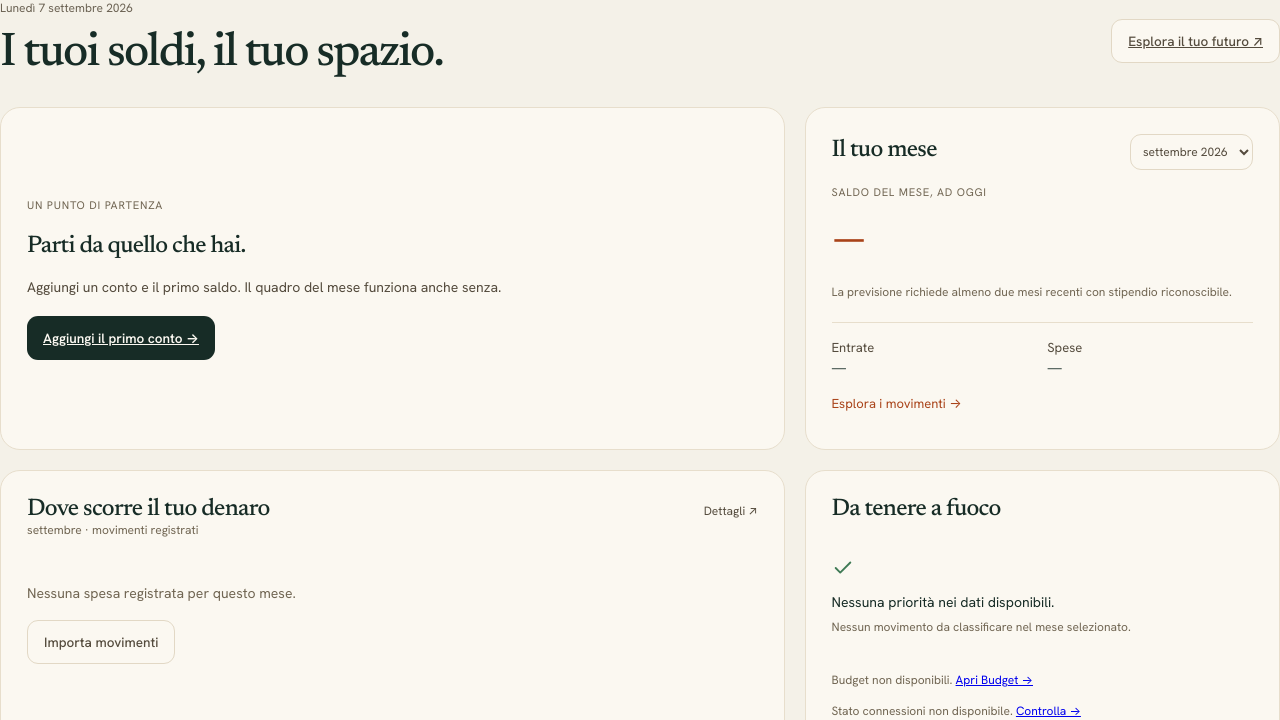
Test: modular home › keeps monthly data usable without balances or optional services and navigates to the exact cleanup period
The width and height of the screenshot is (1280, 720).
Expected: the heading "Parti da quello che hai." is shown, 27,234 -> 245,258
Expected: the text "Nessuna spesa registrata per questo mese." is shown, 27,584 -> 296,602
Select "2026-08" in the dropdown named "Mese" at point(1192, 152), box 1130,134 -> 1253,170
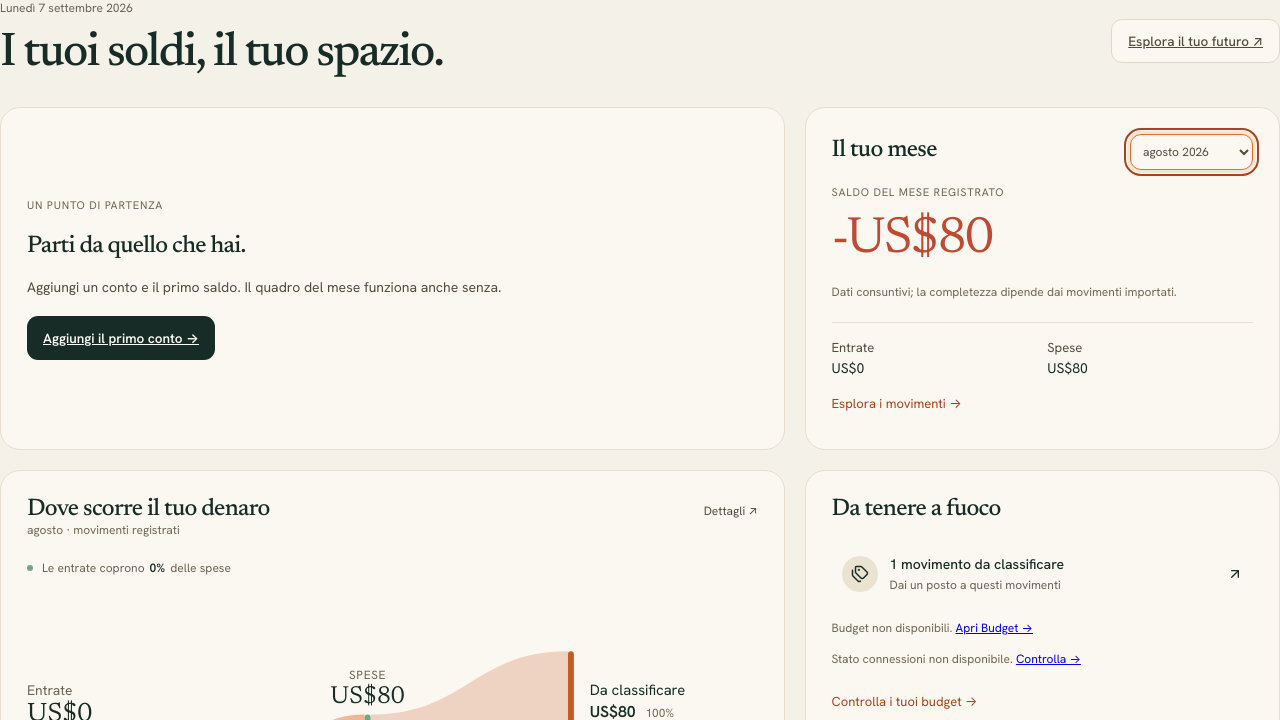
Expected: the text "Budget non disponibili. Apri Budget →" is shown, 832,620 -> 1033,636
Expected: the text "-US$80" is shown, 832,214 -> 992,266
